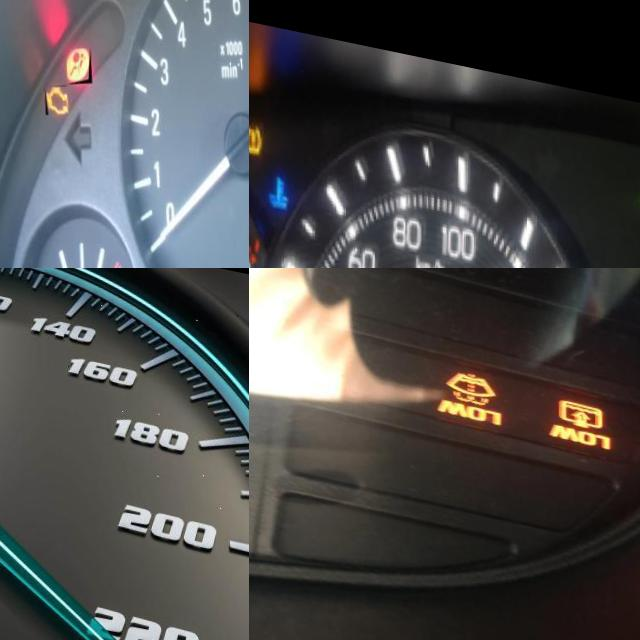Engine cooling system: (267, 160, 295, 211)
Washer Fluid: (445, 355, 499, 397)
